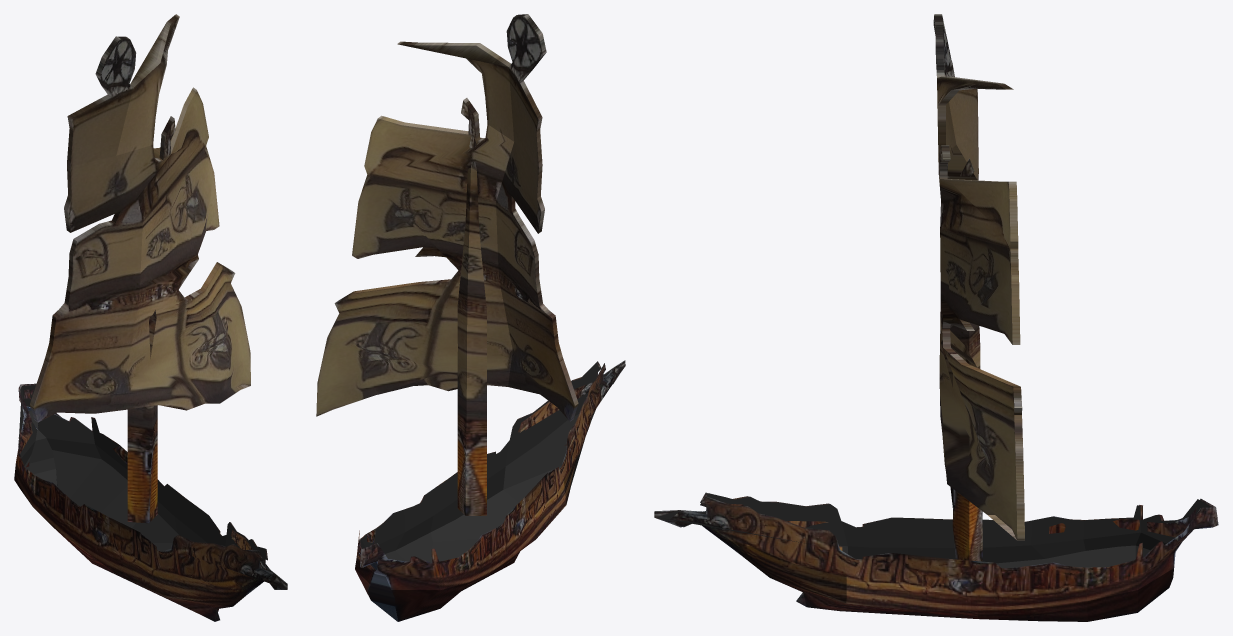
File: PirateShip.fbx
3 renders of one model, left to right at view 1: azimuth 30°, elevation 25°; view 2: azimuth 150°, elevation 25°; view 3: azimuth 270°, elevation 25°, orthographic. The views are drawn at different scales.
Parts seen in each view (by area): view 1: Pirate ship sail, Pirate ship hull, Pirate ship hull.001, Pirate ship mast; view 2: Pirate ship sail, Pirate ship hull, Pirate ship hull.001, Pirate ship mast; view 3: Pirate ship hull, Pirate ship sail, Pirate ship hull.001, Pirate ship mast.
Part boxes in pixels (x1=…): Pirate ship sail: x1=30, y1=14, x2=250, y2=422; Pirate ship hull: x1=14, y1=383, x2=287, y2=621; Pirate ship hull.001: x1=18, y1=385, x2=285, y2=619; Pirate ship mast: x1=127, y1=310, x2=157, y2=523; Pirate ship sail: x1=316, y1=14, x2=578, y2=421; Pirate ship hull: x1=355, y1=360, x2=625, y2=621; Pirate ship hull.001: x1=360, y1=362, x2=623, y2=618; Pirate ship mast: x1=457, y1=133, x2=486, y2=515; Pirate ship hull: x1=654, y1=492, x2=1218, y2=621; Pirate ship sail: x1=933, y1=14, x2=1024, y2=540; Pirate ship hull.001: x1=657, y1=493, x2=1211, y2=602; Pirate ship mast: x1=941, y1=158, x2=982, y2=561.
Size of the model in its own units: 232 by 511 by 450.
